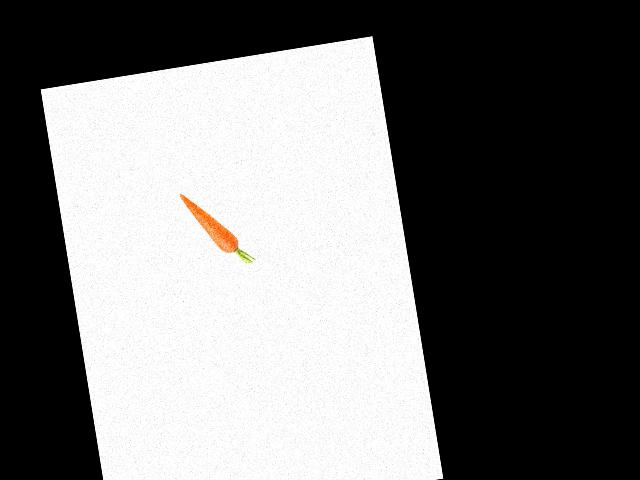carrot: (177, 184, 242, 264)
